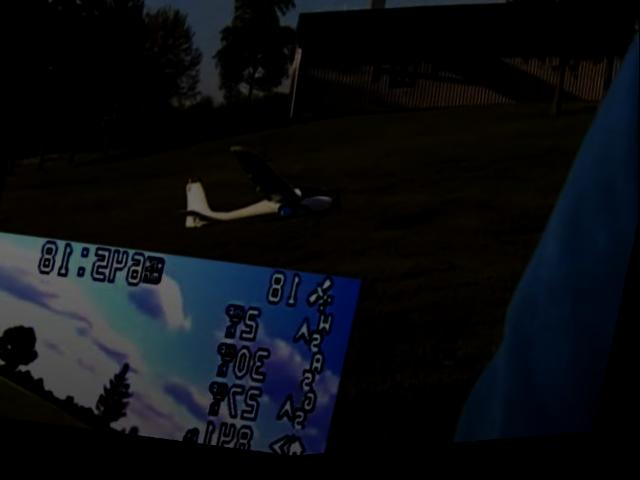iha: (174, 131, 355, 264)
